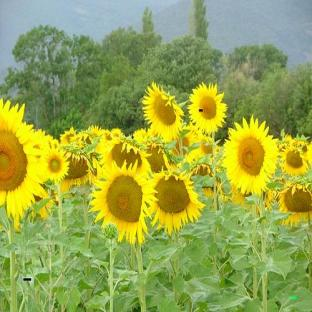sunflower: (222, 115, 278, 263), (261, 272, 268, 312)
